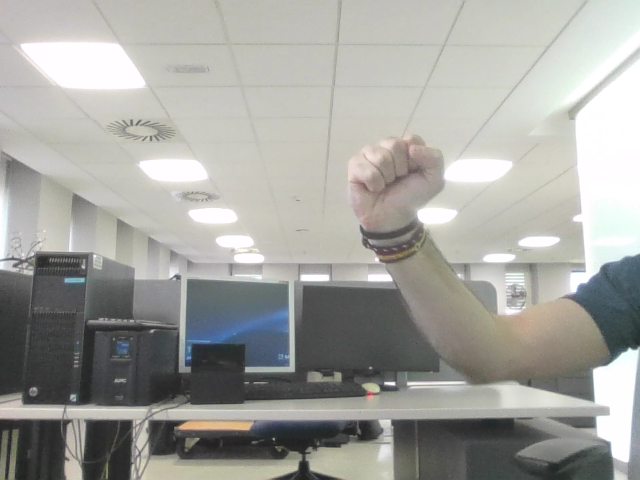Puño: (359, 144, 429, 195)
